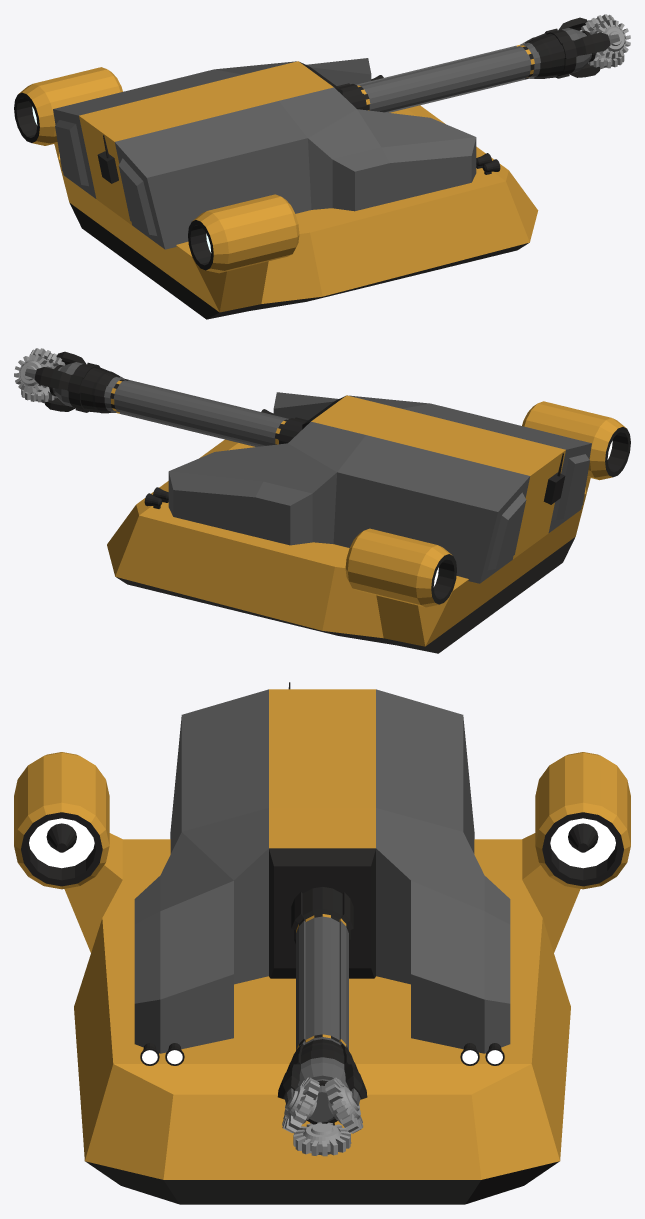
The model's file is drill (3).fbx.
3 views of the same model, one above another, from view 1: azimuth 30°, elevation 25°; view 2: azimuth 150°, elevation 25°; view 3: azimuth 270°, elevation 25° (orthographic). The views are drawn at different scales.
Parts seen in each view (by area): view 1: Cylinder.003; view 2: Cylinder.003; view 3: Cylinder.003.
Boxes of the visible parts, <box> form: Cylinder.003: <box>14,14,630,319</box>; Cylinder.003: <box>14,348,630,653</box>; Cylinder.003: <box>14,682,630,1204</box>.
Bounding box in the file's own units: 1917 × 557 × 1290.
